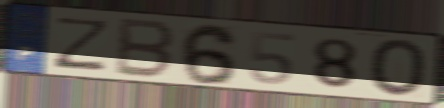5: (247, 29, 296, 87)
6: (179, 21, 240, 86)
8: (309, 36, 363, 90)
B: (112, 15, 178, 81)
O: (368, 37, 430, 99)
Z: (50, 15, 114, 73)
